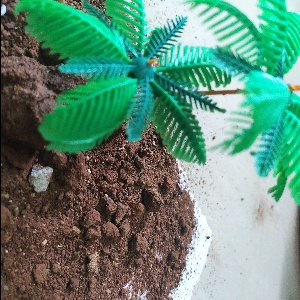plant: (13, 3, 221, 175), (196, 1, 300, 203)
